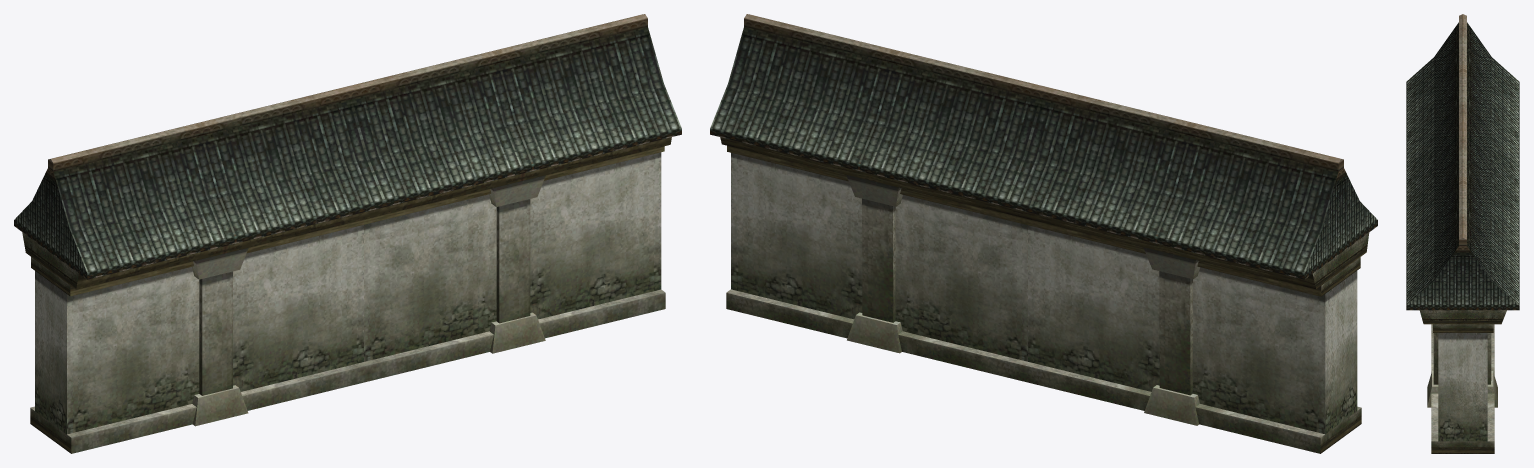
The model's file is ob-10-02-wall-lin2.fbx.
The picture shows the model from 3 angles, left to right: view 1: azimuth 30°, elevation 25°; view 2: azimuth 150°, elevation 25°; view 3: azimuth 270°, elevation 25°; orthographic projection. The views are drawn at different scales.
Visible parts, largest first — view 1: b1-038-wall-lin2; view 2: b1-038-wall-lin2; view 3: b1-038-wall-lin2.
Boxes of the visible parts, x1,y1,x2,y2 form: b1-038-wall-lin2: (14,14,681,453); b1-038-wall-lin2: (710,14,1377,453); b1-038-wall-lin2: (1406,14,1519,453).
Bounding box in the file's own units: 10 × 4.5 × 2.13.
